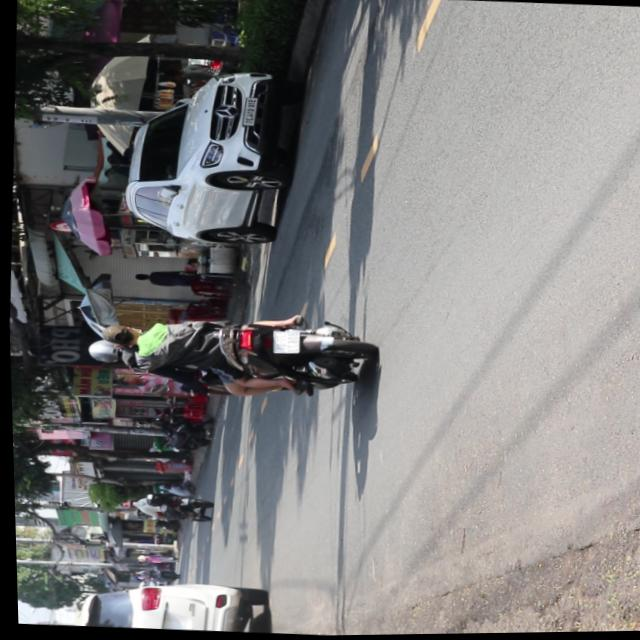helmet: (82, 338, 128, 365)
licenseplate: (78, 302, 376, 406)
motorcyclist: (97, 322, 138, 348)
nohelmet: (268, 330, 297, 354)
